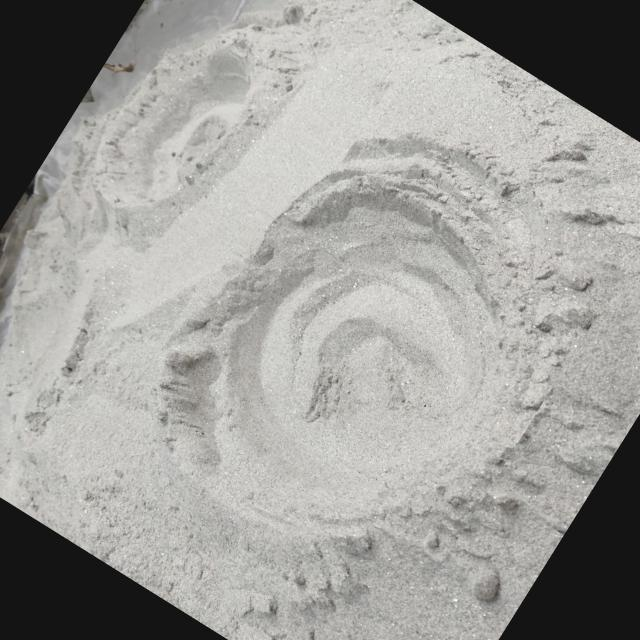C20: (157, 153, 596, 554), (92, 42, 248, 212)
